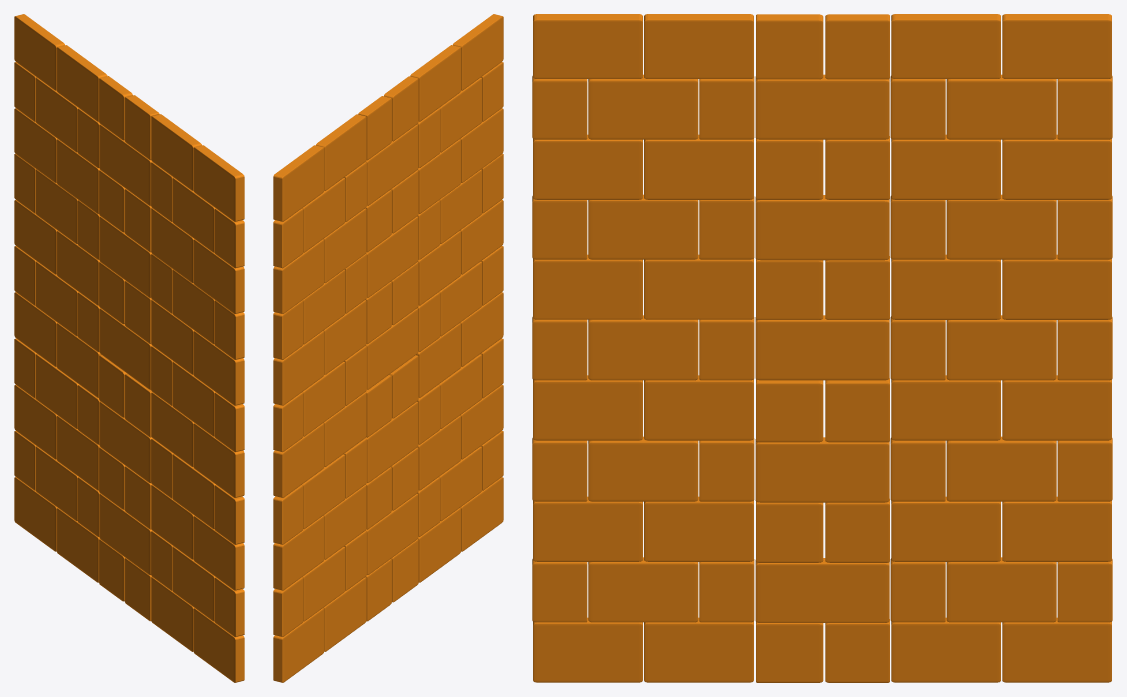
File: wall.fbx
3 renders of one model, left to right at view 1: azimuth 30°, elevation 25°; view 2: azimuth 150°, elevation 25°; view 3: azimuth 270°, elevation 25°, orthographic. The views are drawn at different scales.
Visible parts, largest first — view 1: 立方体.063; view 2: 立方体.063; view 3: 立方体.063.
Part boxes in pixels (left/top/right/bottom): 立方体.063: left=14, top=14, right=244, bottom=682; 立方体.063: left=273, top=14, right=503, bottom=682; 立方体.063: left=532, top=14, right=1112, bottom=682.
Size of the model in its own units: 12.66 by 638 by 506.
